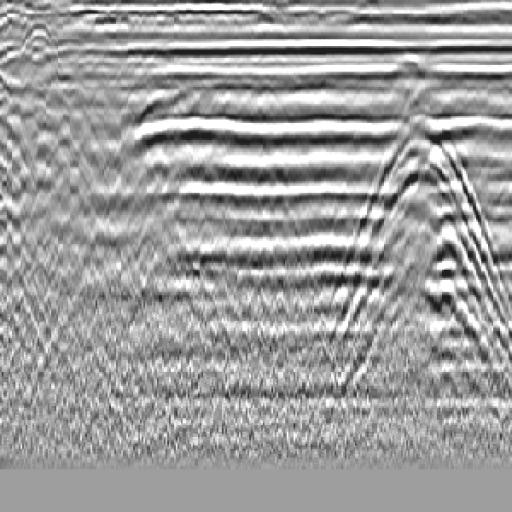non-metallic: (313, 71, 512, 439)
